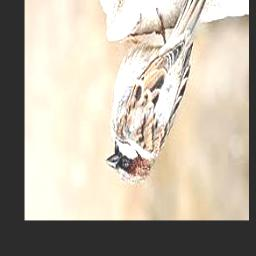Sparrow: (105, 0, 212, 186)
